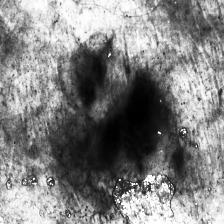Benign Marking or Mole: (74, 47, 169, 173)
